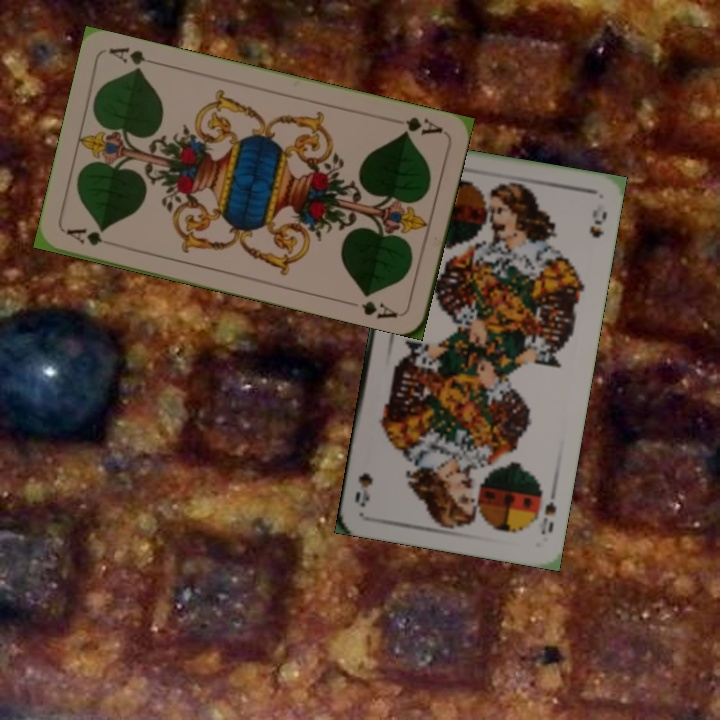GA: (396, 112, 445, 138), (62, 223, 106, 249)
SO: (537, 483, 559, 538)
